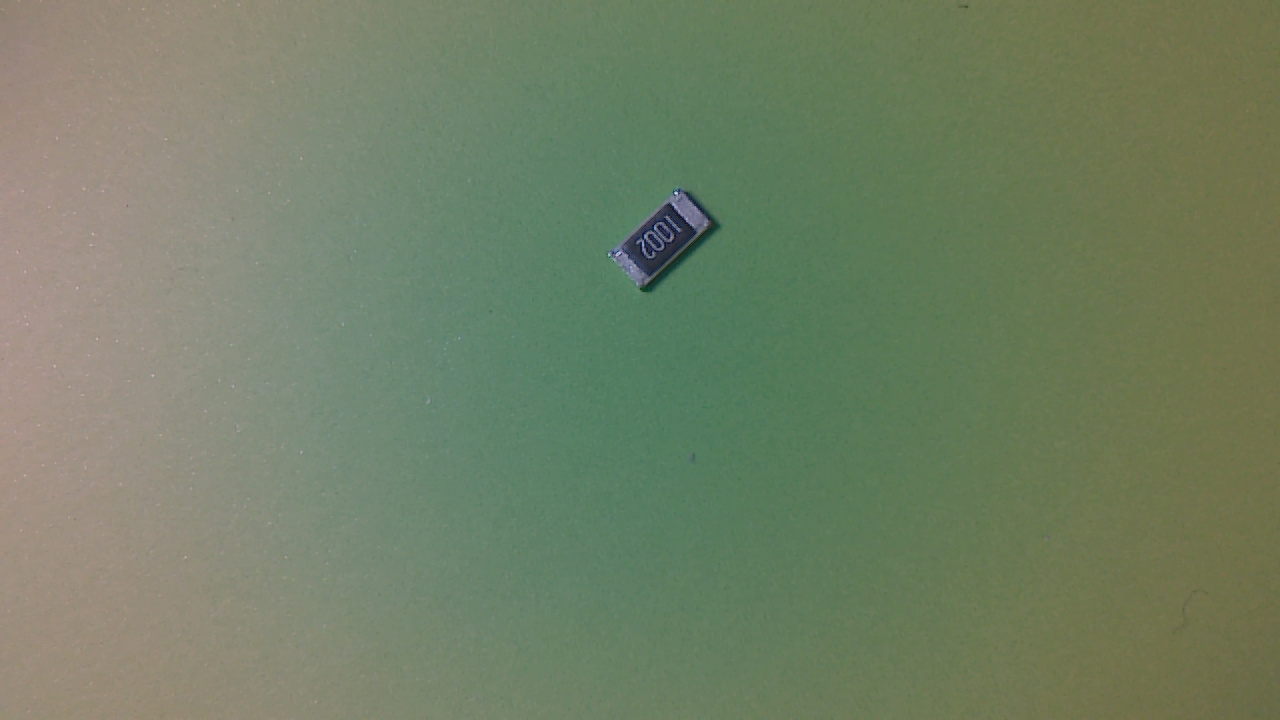Resistor: (608, 186, 727, 301)
